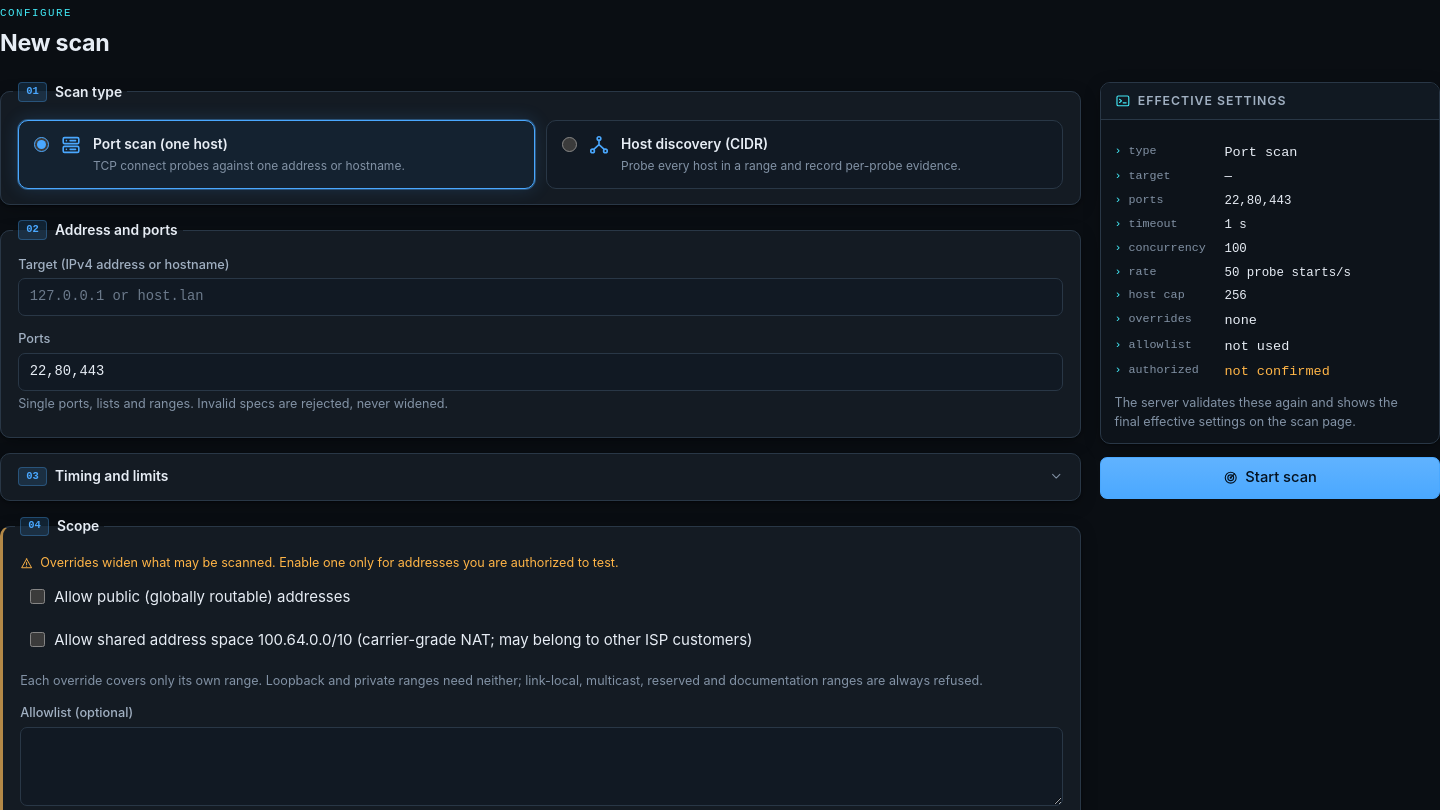
New scan form › blocks submission without the acknowledgement and sends nothing
This screenshot has width=1440, height=810.
Type "127.0.0.1" into the field labelled "Target (IPv4 address or hostname)" at (541,297), box [18,278,1063,316]
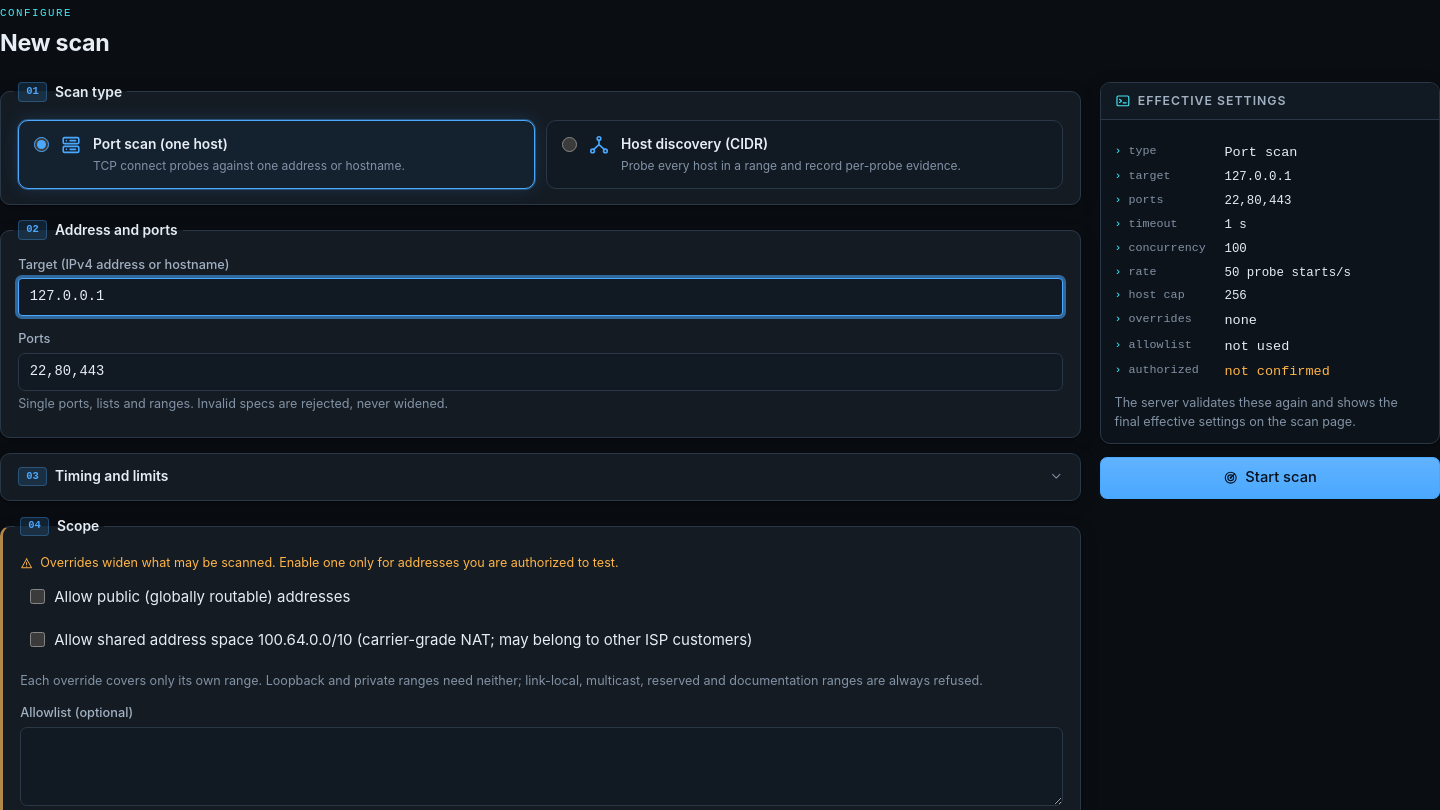
Click the button "Start scan" at (1270,478), box [1100,456,1439,499]
(page scrolled)
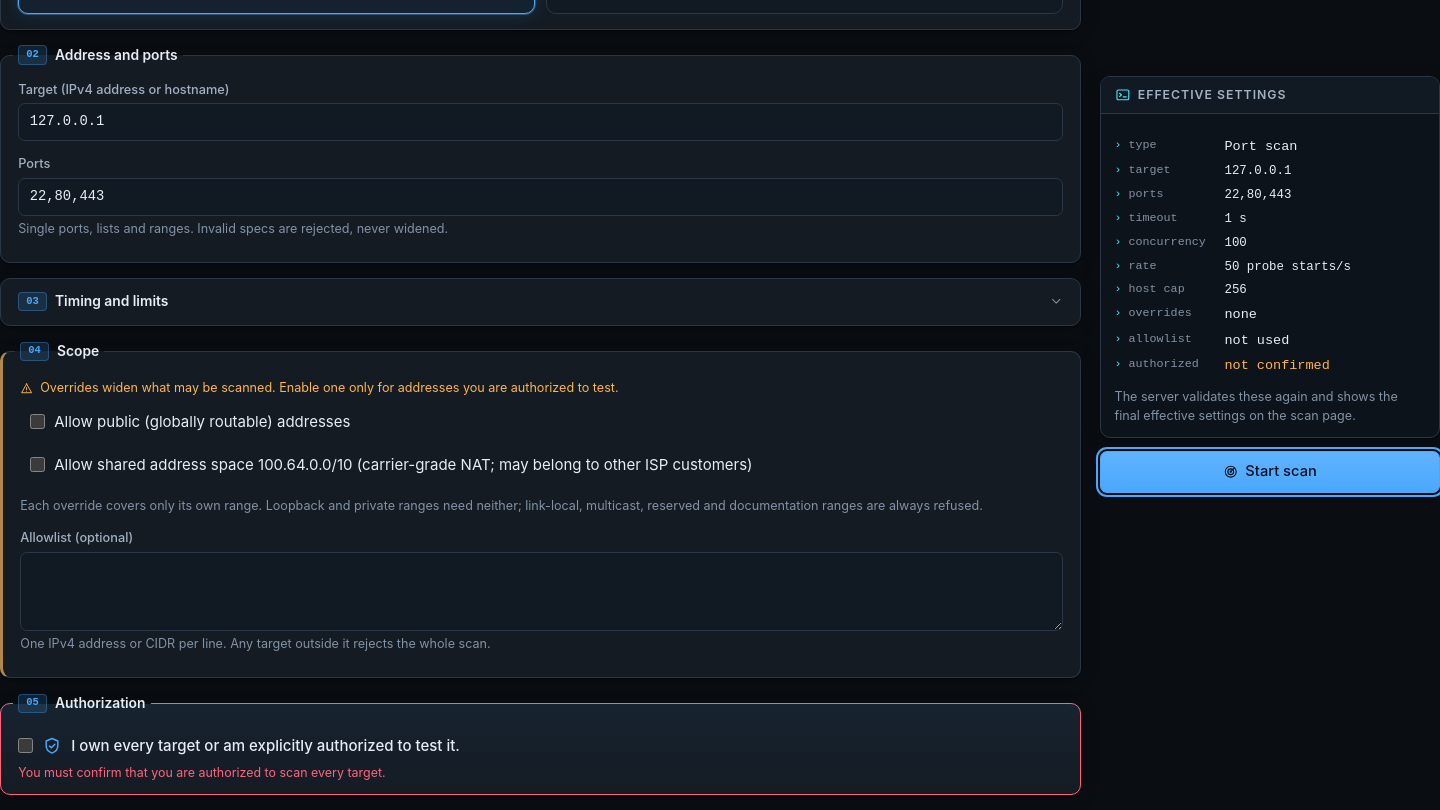
Expected: the text "must confirm that you are authorized" is shown, [18,765,386,780]
